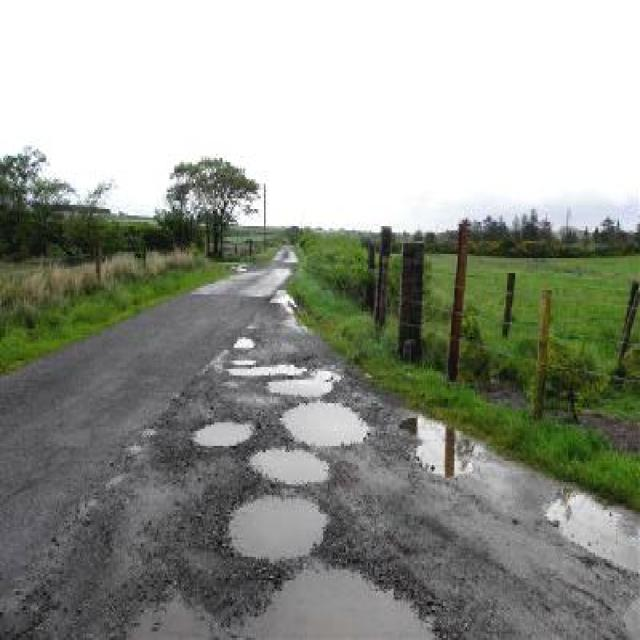pothole: (229, 557, 453, 636), (224, 488, 331, 559), (545, 491, 640, 568), (118, 582, 224, 638), (398, 415, 472, 485), (276, 397, 369, 446), (248, 442, 331, 486), (187, 414, 256, 448), (267, 369, 341, 397), (224, 362, 304, 378), (232, 333, 256, 350)
